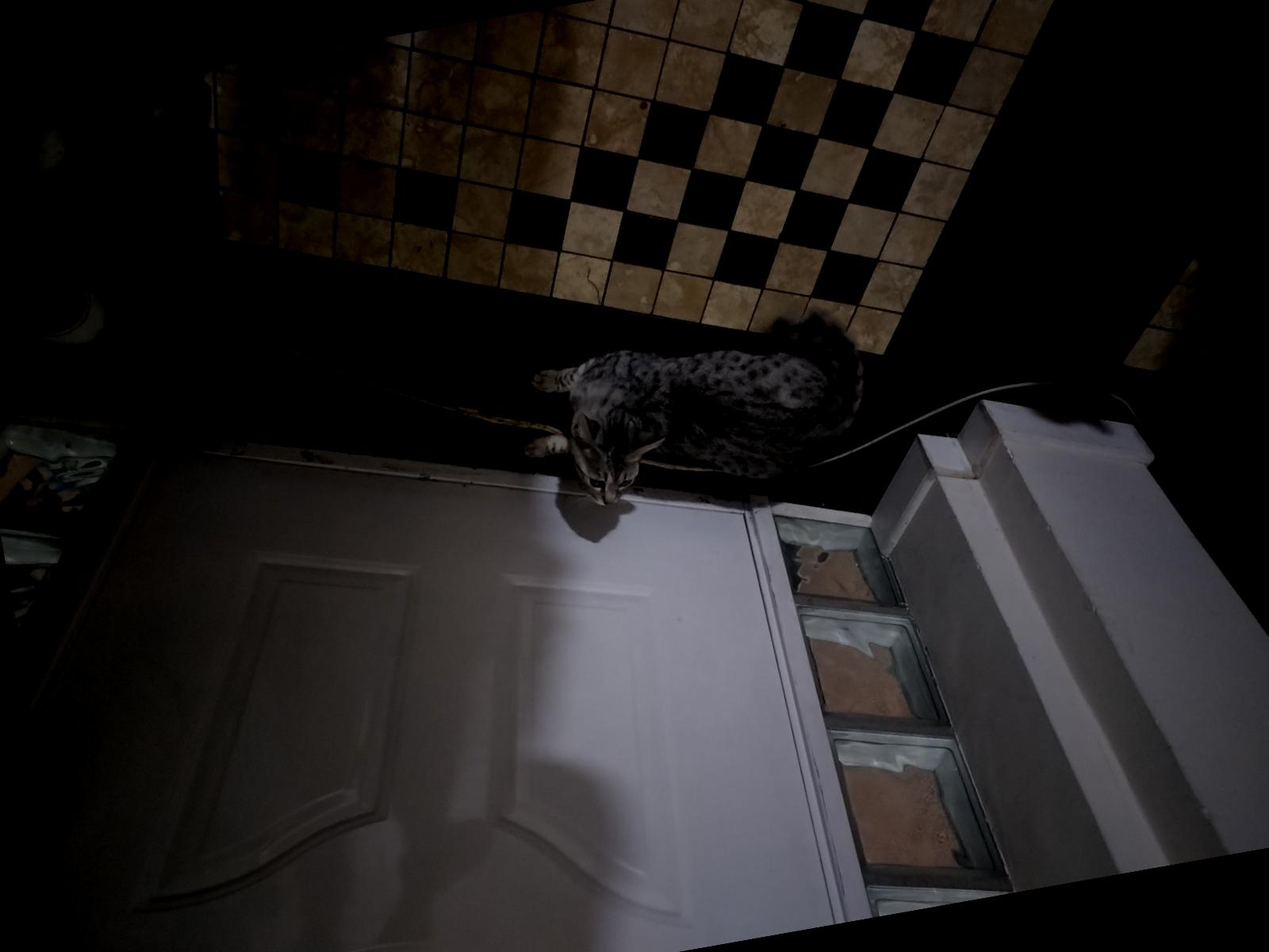macka: (508, 305, 884, 522)
